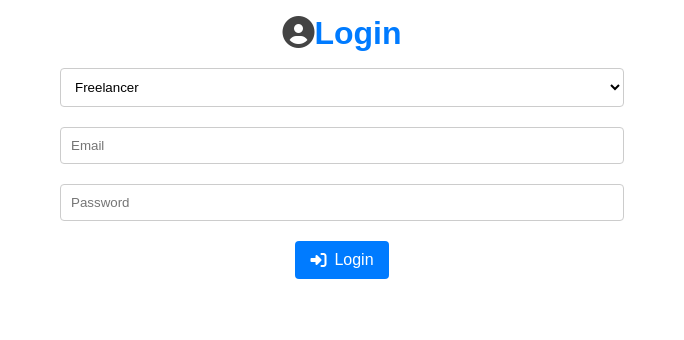
Test case: Login Component › shows error if role is not selected
The width and height of the screenshot is (684, 340).
Select "Select role" in the dropdown: (342, 87) 60,68 -> 624,106
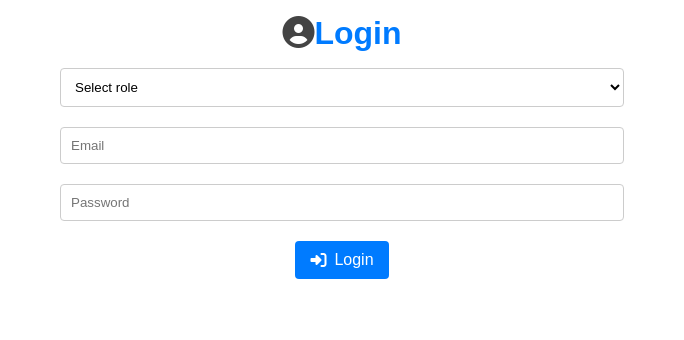
Click the button "Login": (342, 260) 295,240 -> 389,278
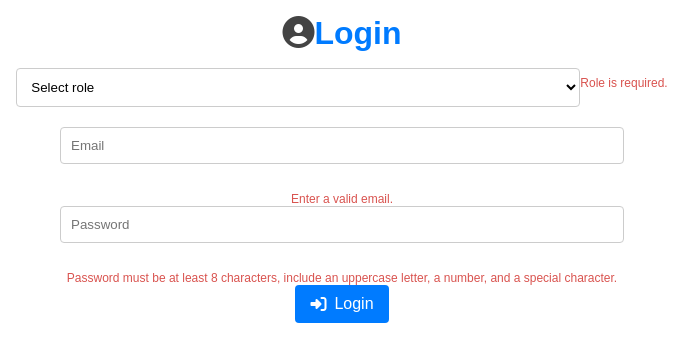
Check: the text "Role is required." is shown, box 580,76 -> 668,90
